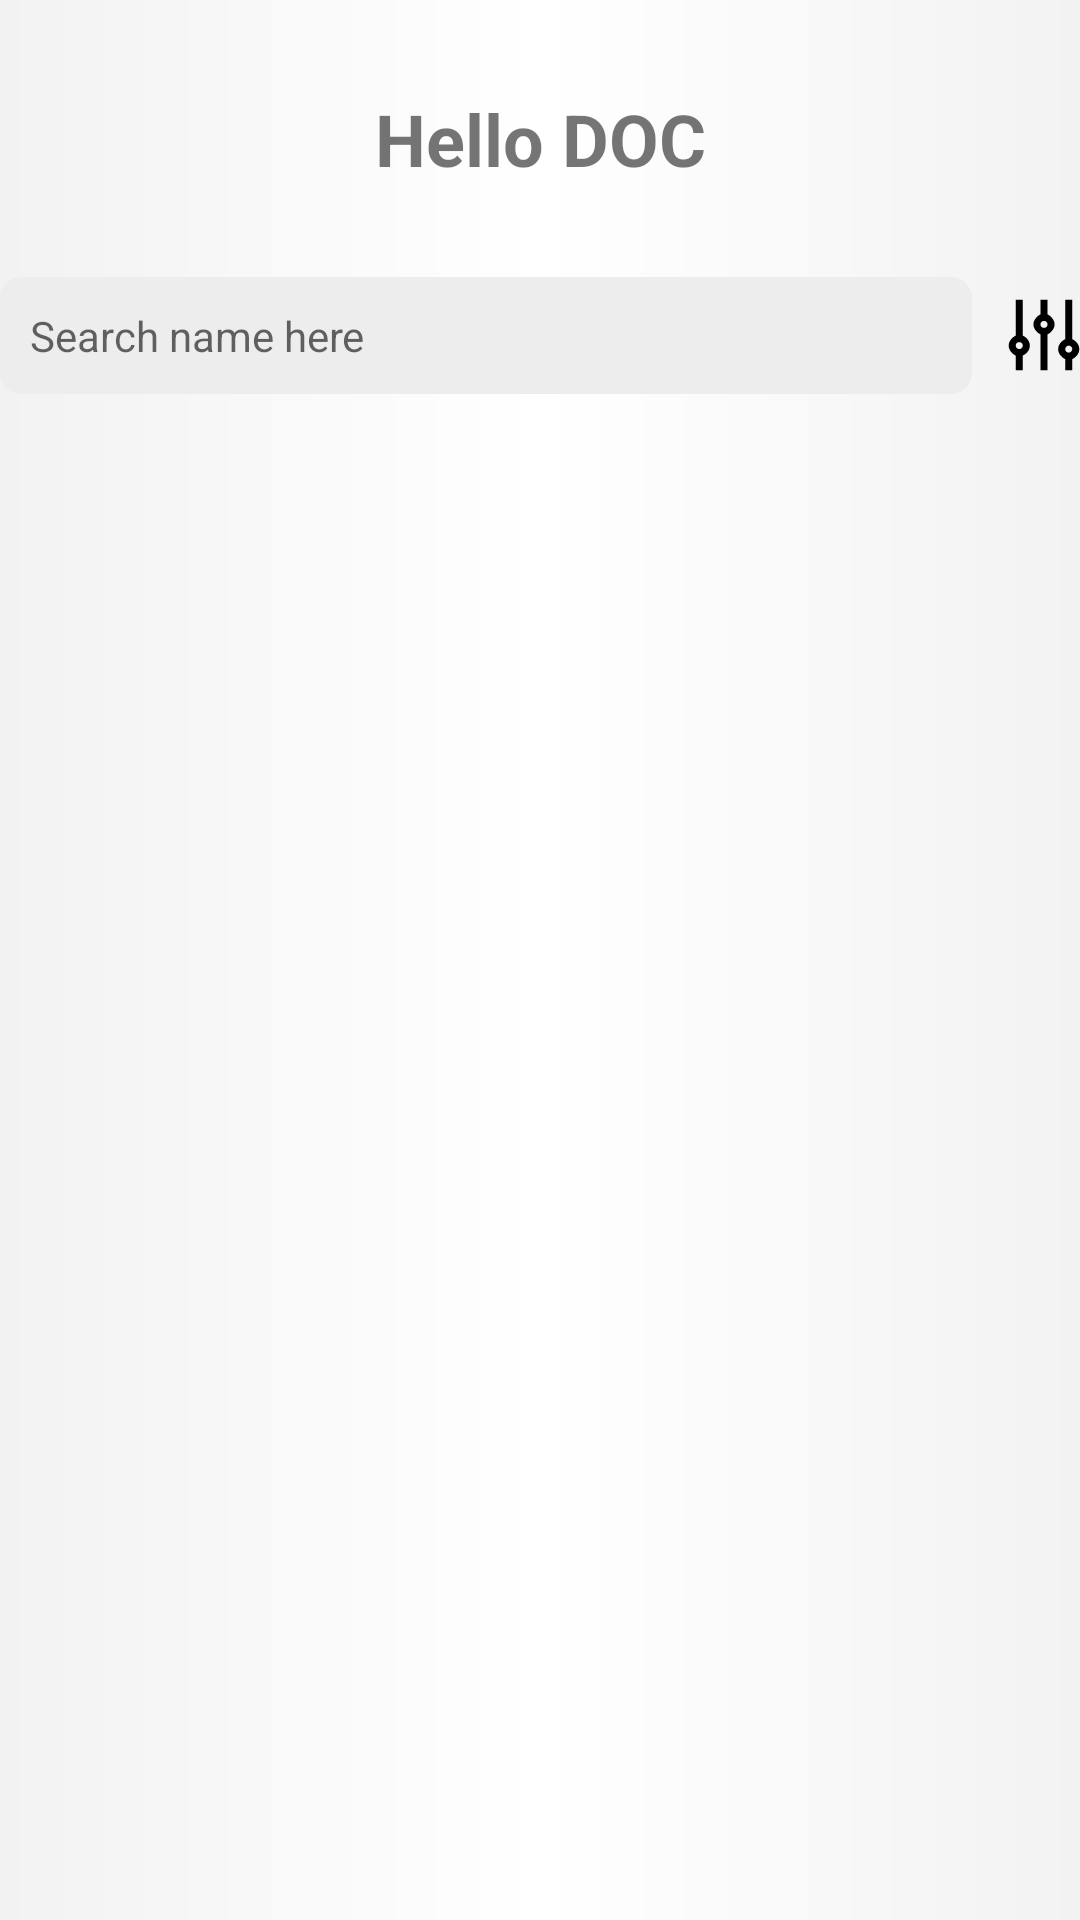

Where to tap for icons on this 1080x1920 app screen, as [x,y]:
filter: [1044,335]
